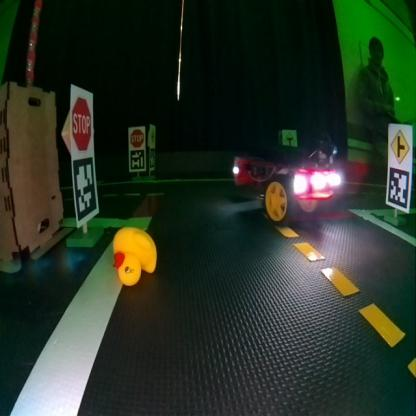Duckie: (111, 227, 155, 284)
Duckiebot: (234, 140, 342, 223)
Intersection sign: (390, 127, 408, 164), (284, 132, 295, 146), (149, 127, 155, 140)
QR code: (74, 158, 96, 218), (387, 169, 409, 208), (128, 148, 144, 169), (148, 148, 154, 167)
Stop sign: (70, 98, 91, 152), (128, 129, 144, 146)
